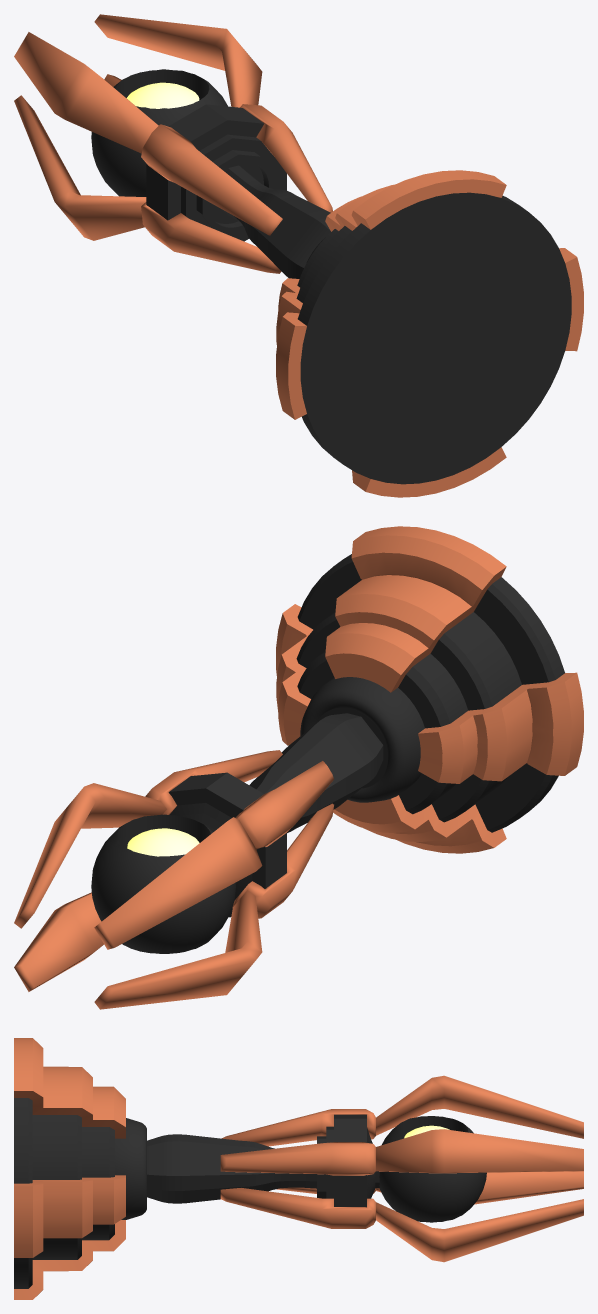
The model's file is PlasmaTower4.fbx.
The picture shows the model from 3 angles, top to bottom: view 1: azimuth 30°, elevation 25°; view 2: azimuth 150°, elevation 25°; view 3: azimuth 270°, elevation 25°; orthographic projection. The views are drawn at different scales.
Visible parts, largest first — view 1: Cylinder.002, Cylinder.010, Cylinder.004, Cylinder.001, Cylinder.008, Sphere, Cube.003, Cylinder.007, Slice; view 2: Cylinder.002, Cylinder.010, Cylinder.008, Cylinder.007, Sphere, Cylinder.004, Cube.003, Cylinder.001, Slice; view 3: Cylinder.010, Cylinder.002, Cylinder.004, Cylinder.008, Cube.003, Cylinder.007, Sphere, Cylinder.001.
Boxes of the visible parts, box(x1,y1,x2,y2) form: Cylinder.002: box(296, 192, 571, 484); Cylinder.010: box(14, 14, 262, 240); Cylinder.004: box(141, 104, 332, 273); Cylinder.001: box(146, 104, 286, 241); Cylinder.008: box(325, 170, 506, 497); Sphere: box(91, 69, 227, 196); Cube.003: box(220, 165, 330, 278); Cylinder.007: box(276, 248, 583, 419); Slice: box(126, 82, 199, 108); Cylinder.002: box(296, 554, 564, 832); Cylinder.010: box(14, 783, 262, 1009); Cylinder.008: box(325, 526, 506, 853); Cylinder.007: box(276, 604, 583, 783); Sphere: box(91, 814, 236, 953); Cylinder.004: box(145, 750, 333, 918); Cube.003: box(249, 713, 383, 832); Cylinder.001: box(168, 772, 286, 917); Slice: box(127, 828, 199, 856); Cylinder.010: box(376, 1075, 583, 1262); Cylinder.002: box(14, 1098, 146, 1288); Cylinder.004: box(220, 1109, 375, 1228); Cylinder.008: box(14, 1038, 125, 1299); Cube.003: box(147, 1134, 316, 1203); Cylinder.007: box(14, 1175, 125, 1257); Sphere: box(379, 1116, 486, 1222); Cylinder.001: box(317, 1114, 379, 1207).
Size of the model in its own units: 1262 by 1265 by 2748.
